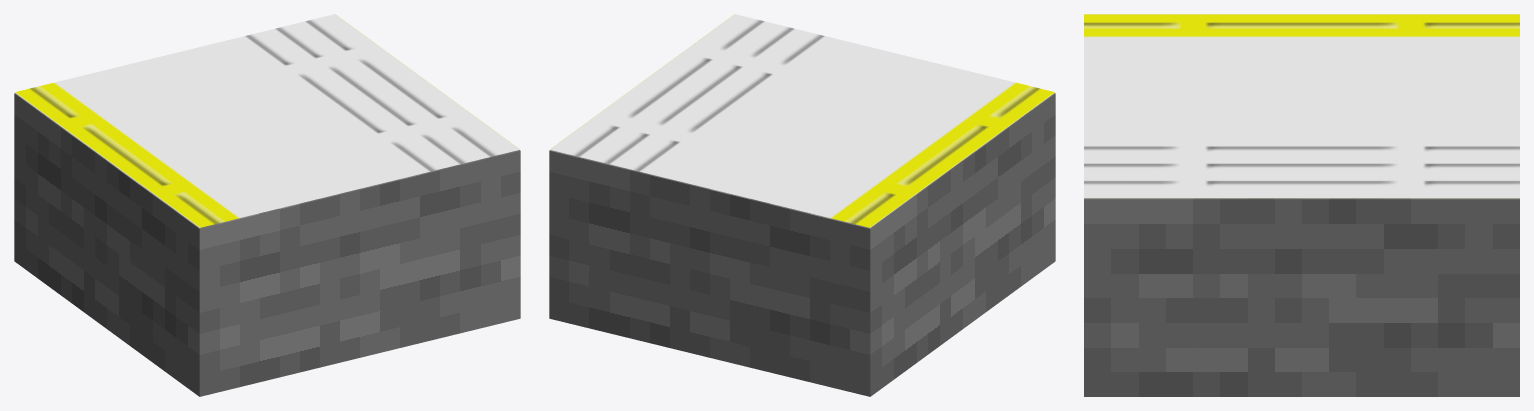
Rendered from hk_1_slab_top_flipped.obj.
3 renders of one model, left to right at view 1: azimuth 30°, elevation 25°; view 2: azimuth 150°, elevation 25°; view 3: azimuth 270°, elevation 25°, orthographic. The views are drawn at different scales.
Parts seen in each view (by area): view 1: cube, cube.001; view 2: cube, cube.001; view 3: cube, cube.001.
Part boxes in pixels (x1=…): cube: x1=14, y1=93, x2=520, y2=396; cube.001: x1=15, y1=14, x2=519, y2=227; cube: x1=549, y1=93, x2=1055, y2=396; cube.001: x1=550, y1=14, x2=1054, y2=227; cube: x1=1084, y1=198, x2=1519, y2=396; cube.001: x1=1084, y1=14, x2=1519, y2=198.
Bounding box in the file's own units: 1 × 0.5031 × 1.
Materials: 2 (2 with a texture image).
